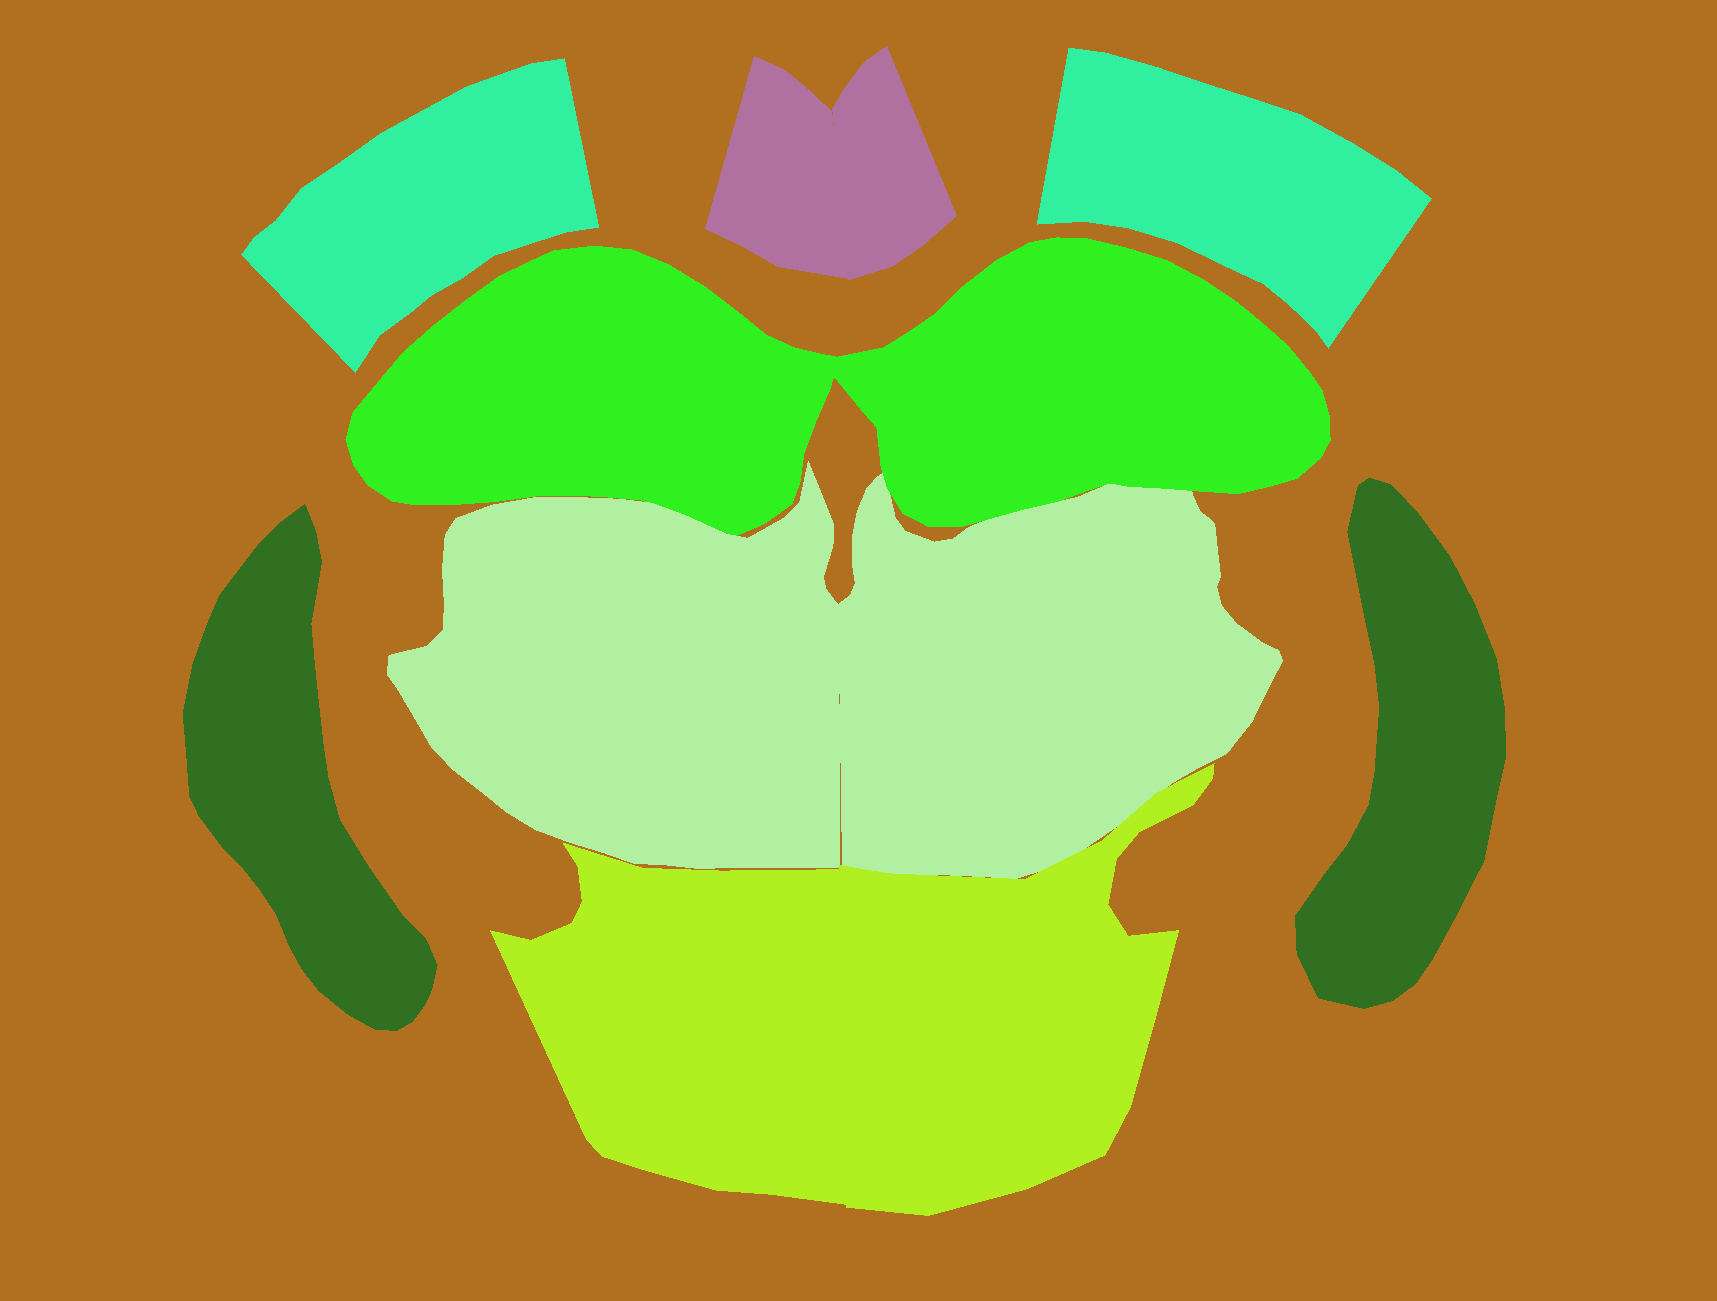Cerebral nuclei: (183, 504, 438, 1030), (1295, 478, 1507, 1009)
Hippocampal formation: (835, 236, 1330, 528), (346, 246, 840, 537)
Hypothalamus: (839, 763, 1214, 1216), (490, 842, 847, 1204)
Retrosplenial area: (705, 56, 850, 279), (832, 46, 958, 280)
Somatosensory area: (1037, 48, 1432, 348), (240, 57, 600, 373)
Thalamus: (387, 461, 840, 869), (837, 469, 1283, 879)
